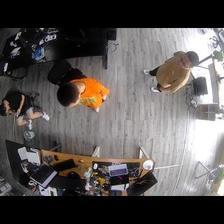normal: (142, 50, 198, 95), (59, 77, 108, 113)
